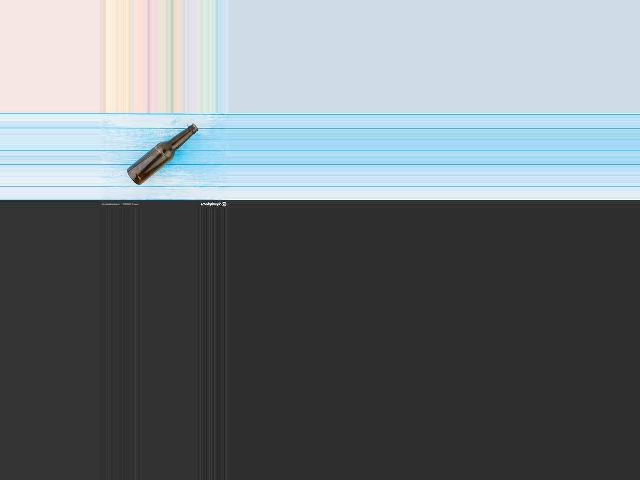beer: (126, 123, 197, 186)
